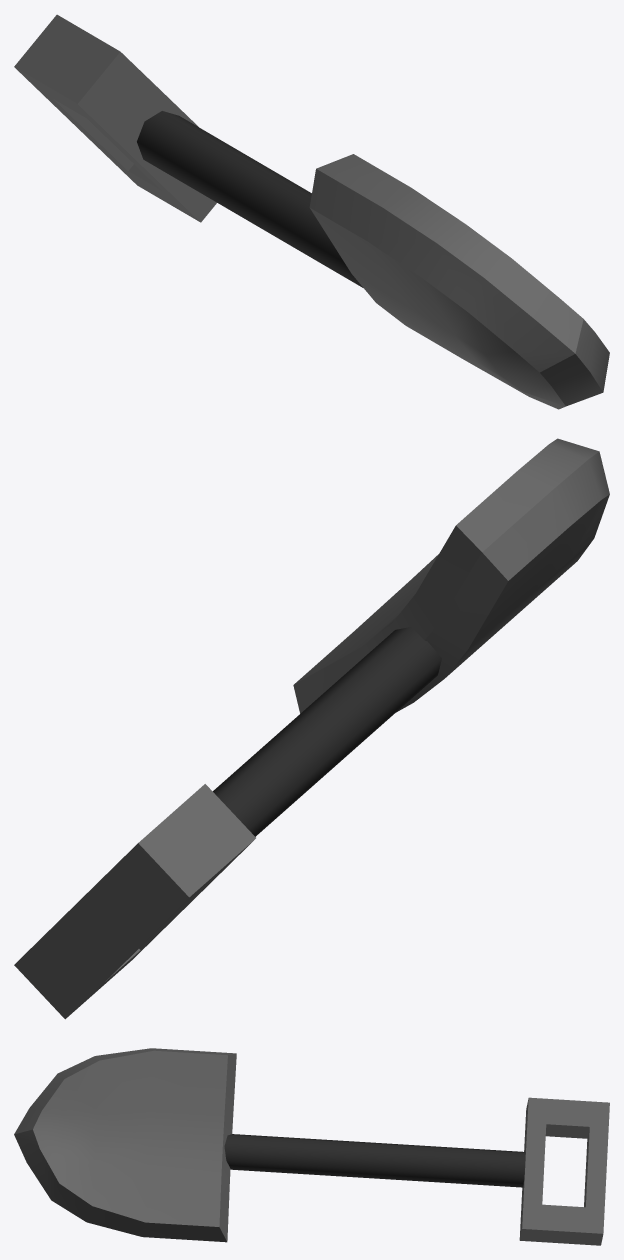
File: SM_shovel.FBX
3 renders of one model, top to bottom at view 1: azimuth 30°, elevation 25°; view 2: azimuth 150°, elevation 25°; view 3: azimuth 270°, elevation 25°, orthographic. The views are drawn at different scales.
Parts seen in each view (by area): view 1: shovel; view 2: shovel; view 3: shovel.
Boxes of the visible parts, x1,y1,x2,y2 form: shovel: [14, 14, 609, 409]; shovel: [14, 438, 609, 1019]; shovel: [14, 1048, 609, 1245].
Size of the model in its own units: 13.82 by 17.19 by 53.64.
